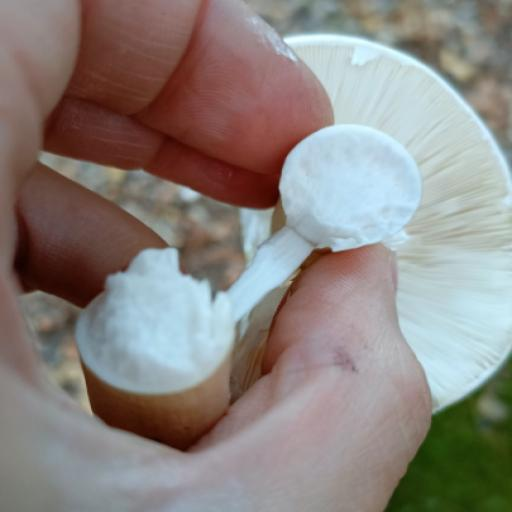Death Cap: (208, 25, 512, 423)
